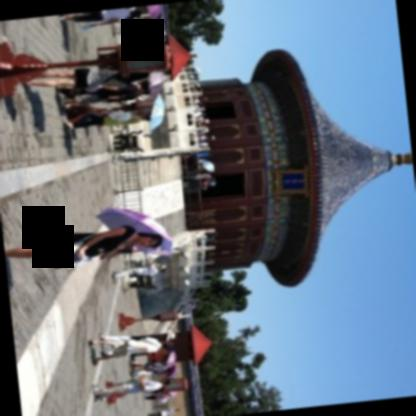handbag: (51, 233, 97, 271), (72, 71, 121, 95)
